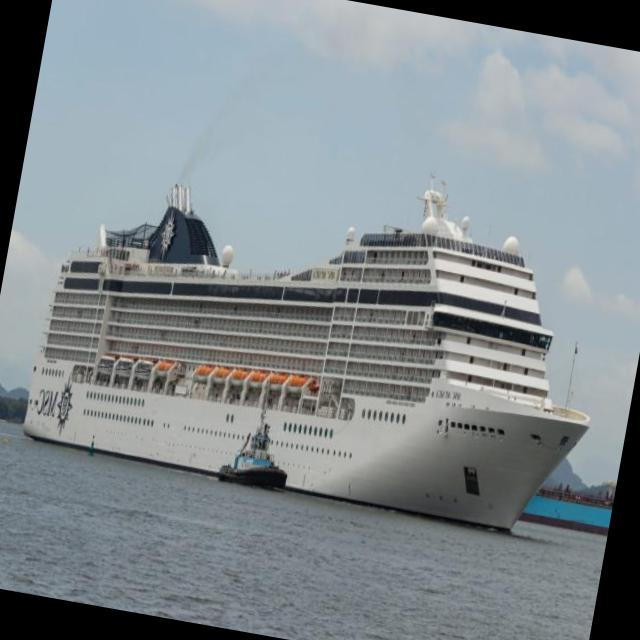Cruise: (24, 184, 590, 530)
Tug: (218, 411, 286, 490)
